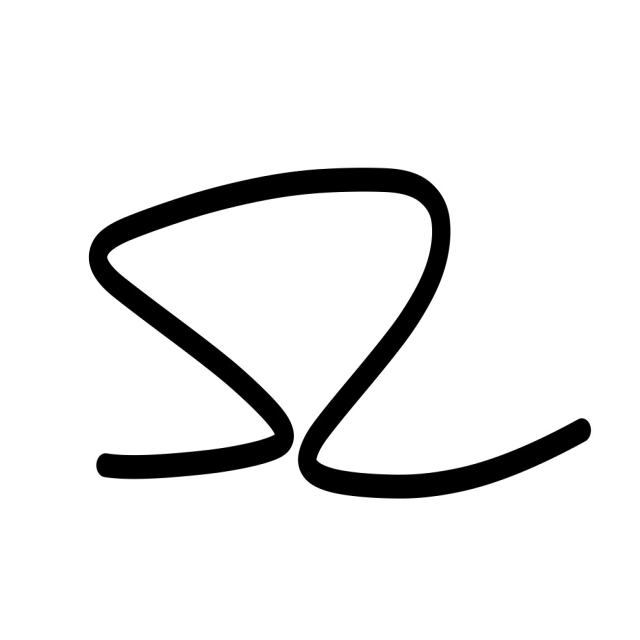ohms: (23, 90, 609, 574)
